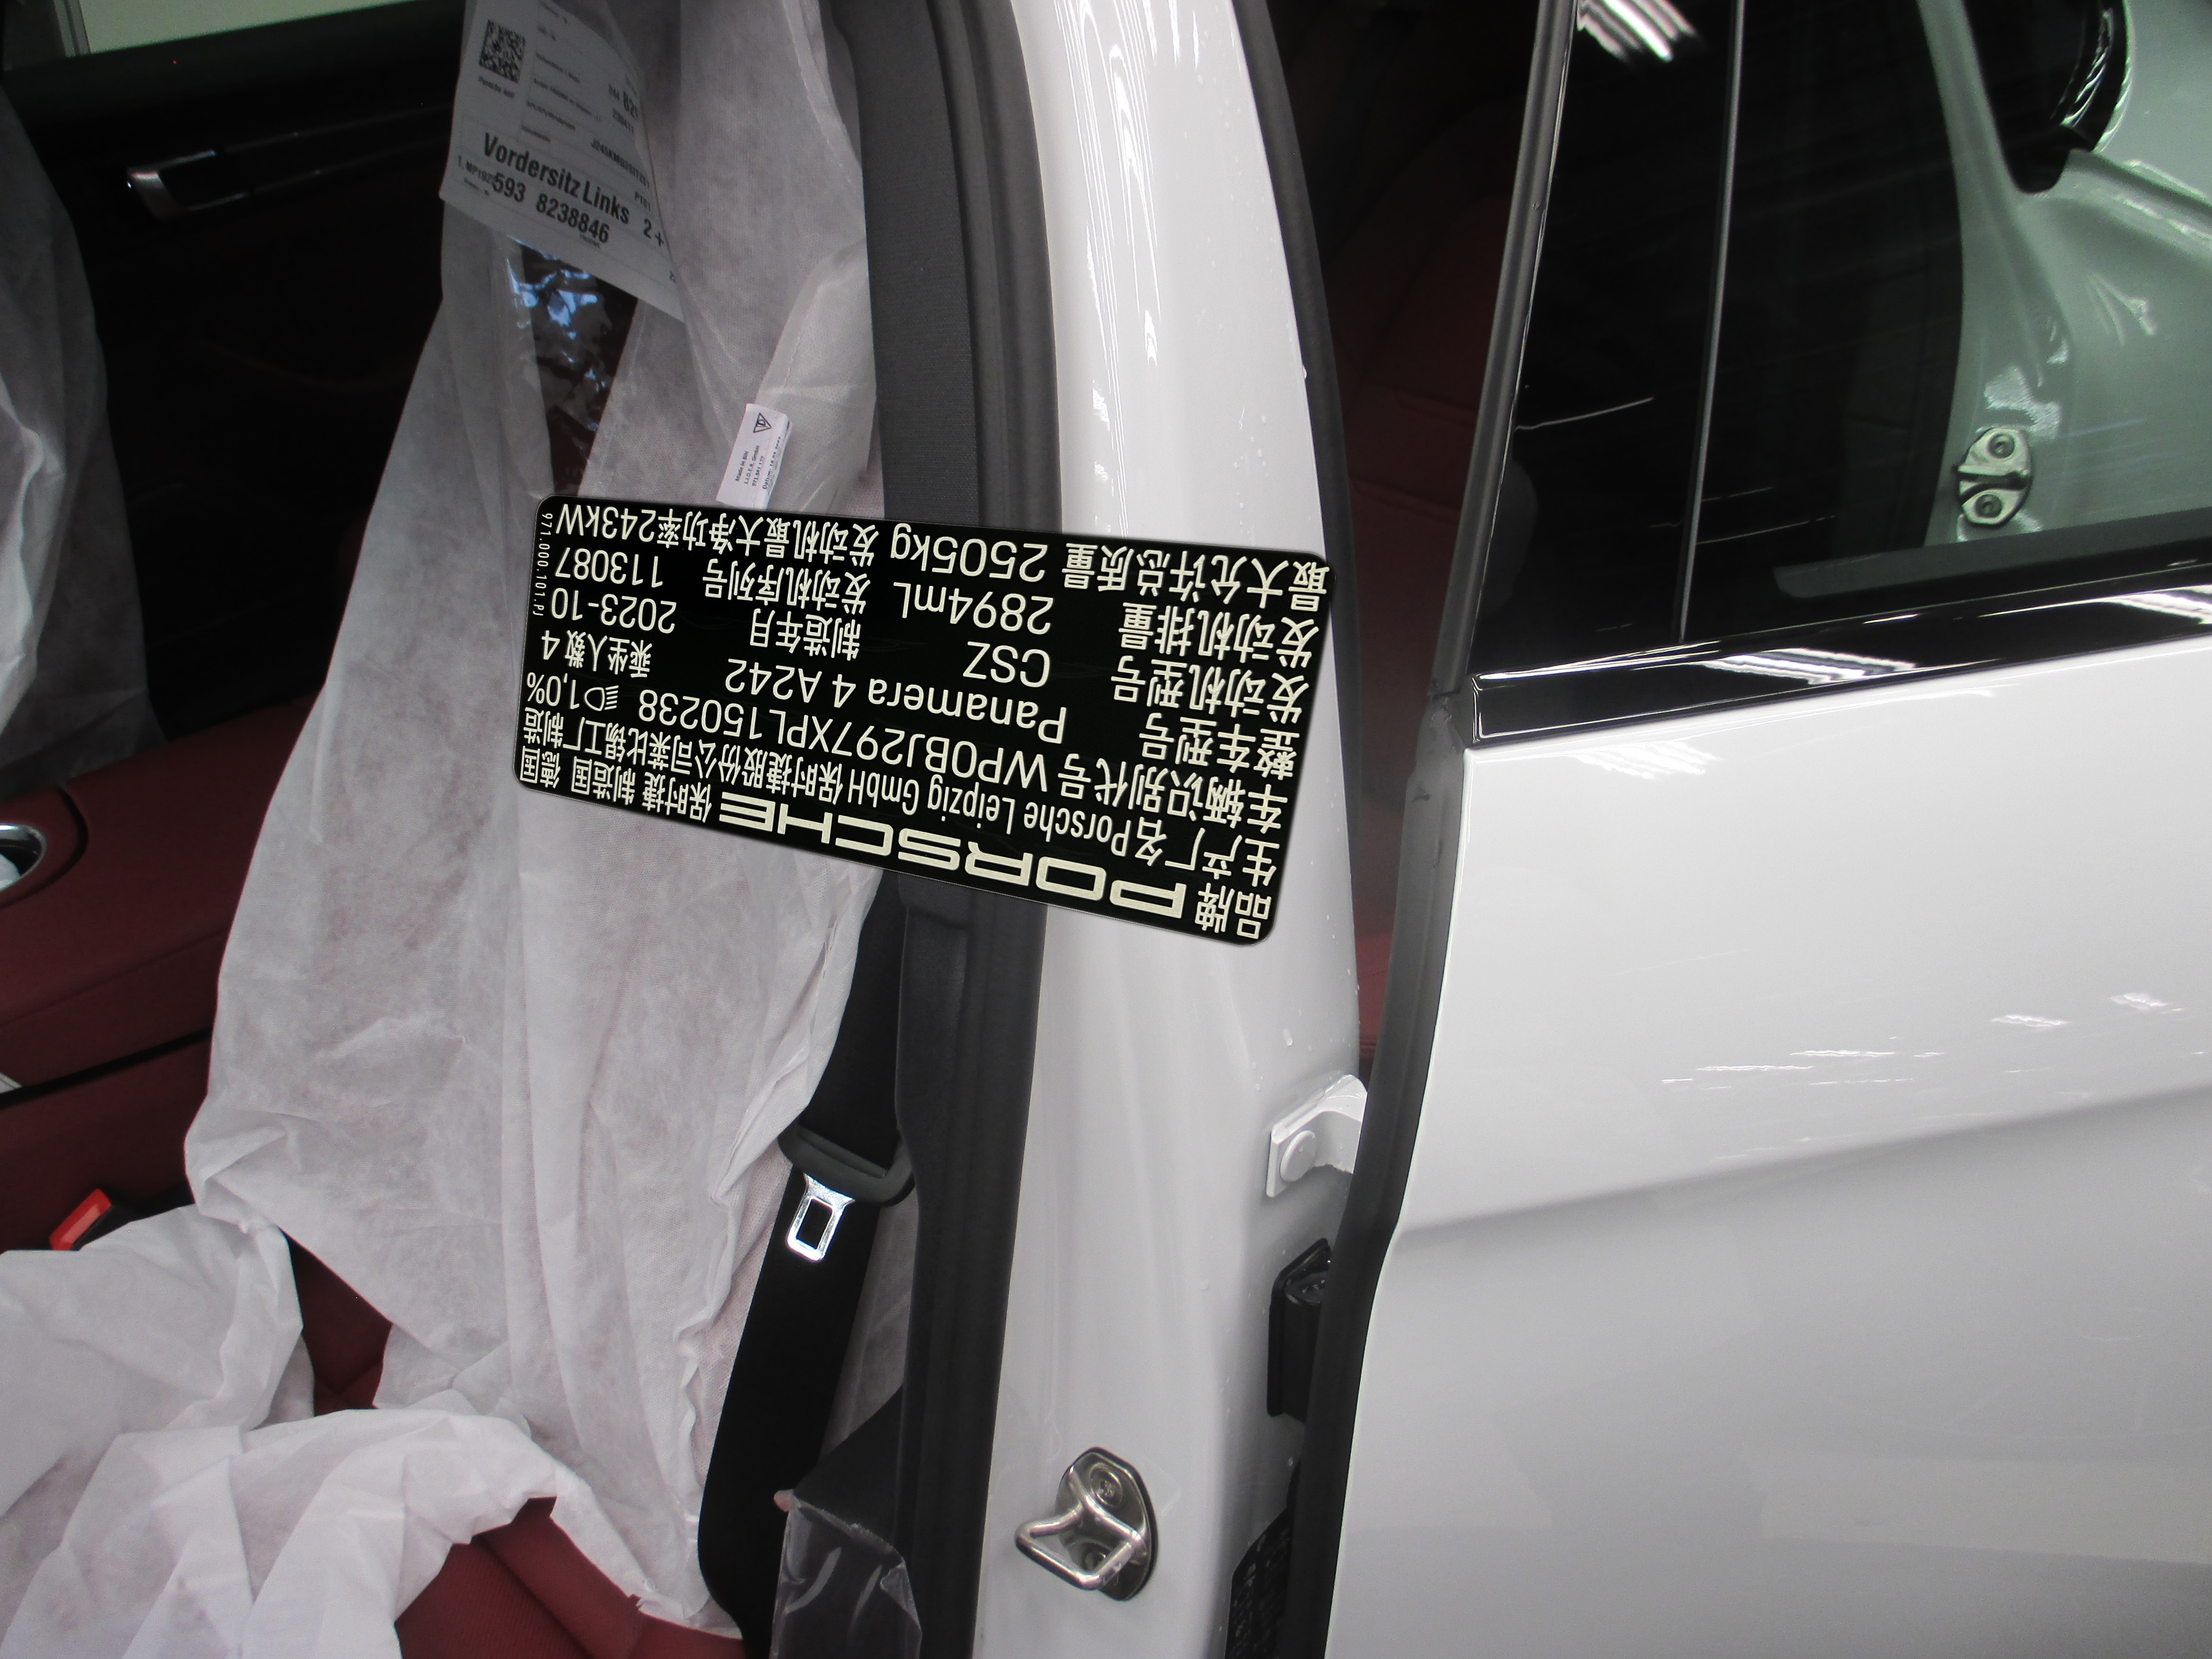Typlabel-China: (514, 495, 1336, 945)
